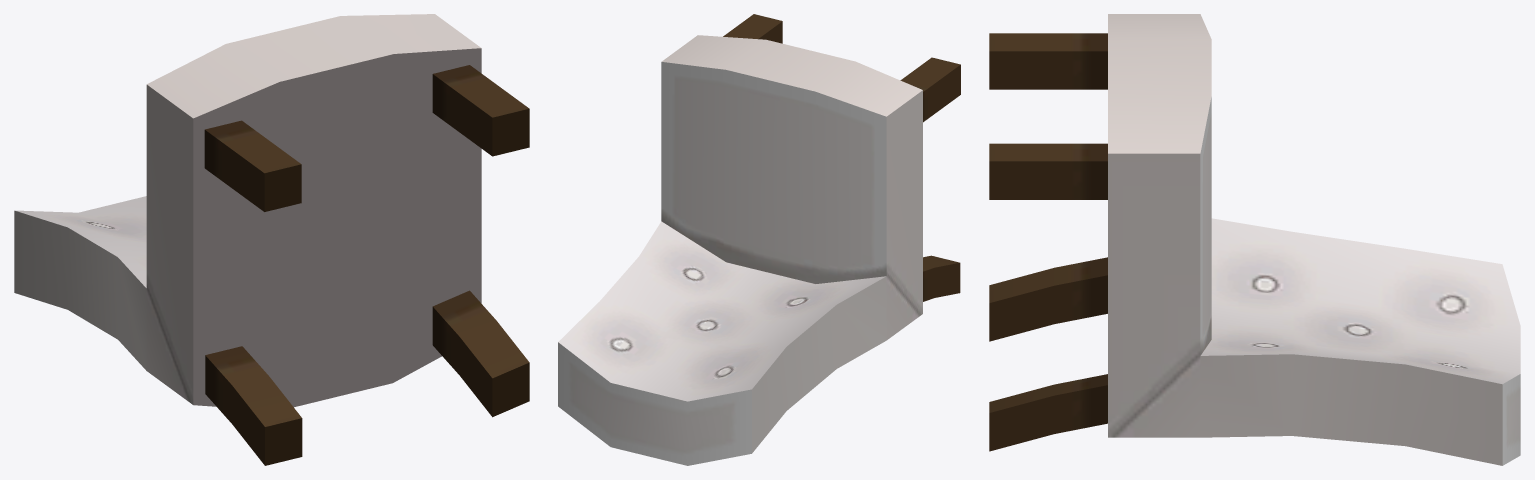
Rendered from DiningChair.fbx.
The picture shows the model from 3 angles, left to right: view 1: azimuth 30°, elevation 25°; view 2: azimuth 150°, elevation 25°; view 3: azimuth 270°, elevation 25°; orthographic projection. The views are drawn at different scales.
Parts seen in each view (by area): view 1: DiningChair; view 2: DiningChair; view 3: DiningChair.
Boxes of the visible parts, left/top/right/bottom form: DiningChair: left=14, top=14, right=529, bottom=465; DiningChair: left=558, top=14, right=960, bottom=465; DiningChair: left=989, top=14, right=1520, bottom=465.
Size of the model in its own units: 57.21 by 69.62 by 92.09.
